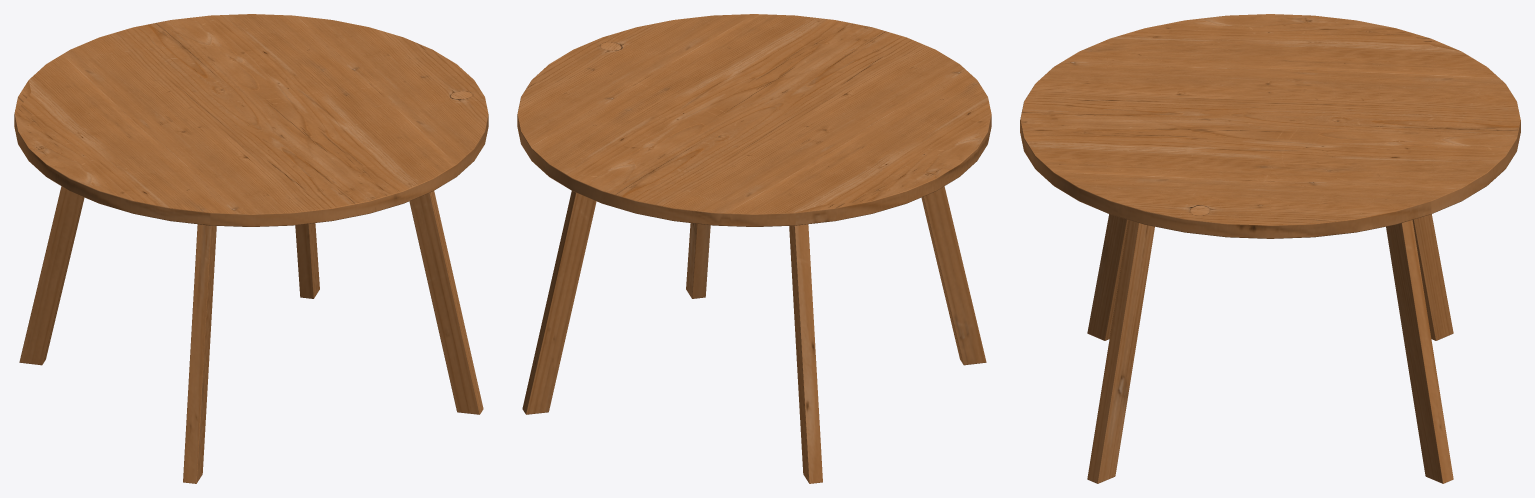
Rendered from Circle table.fbx.
3 renders of one model, left to right at view 1: azimuth 30°, elevation 25°; view 2: azimuth 150°, elevation 25°; view 3: azimuth 270°, elevation 25°, orthographic. The views are drawn at different scales.
Parts seen in each view (by area): view 1: Plane; view 2: Plane; view 3: Plane.
Boxes of the visible parts, x1,y1,x2,y2 form: Plane: (14,14,488,483); Plane: (517,14,991,483); Plane: (1020,14,1520,483).
Bounding box in the file's own units: 99.6 × 63.01 × 99.6.
